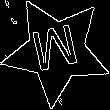M_S: (29, 21, 84, 81)
